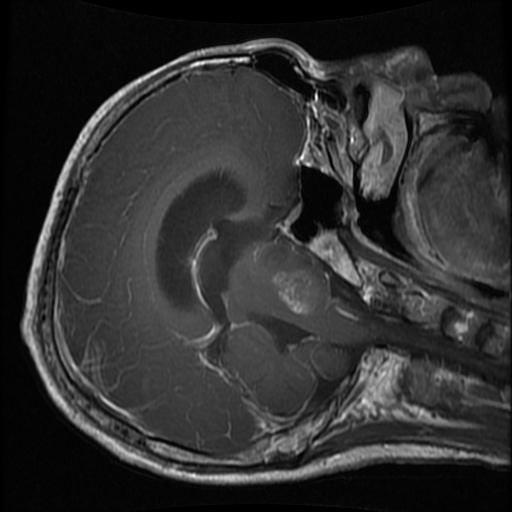glioma: (272, 270, 332, 315)
